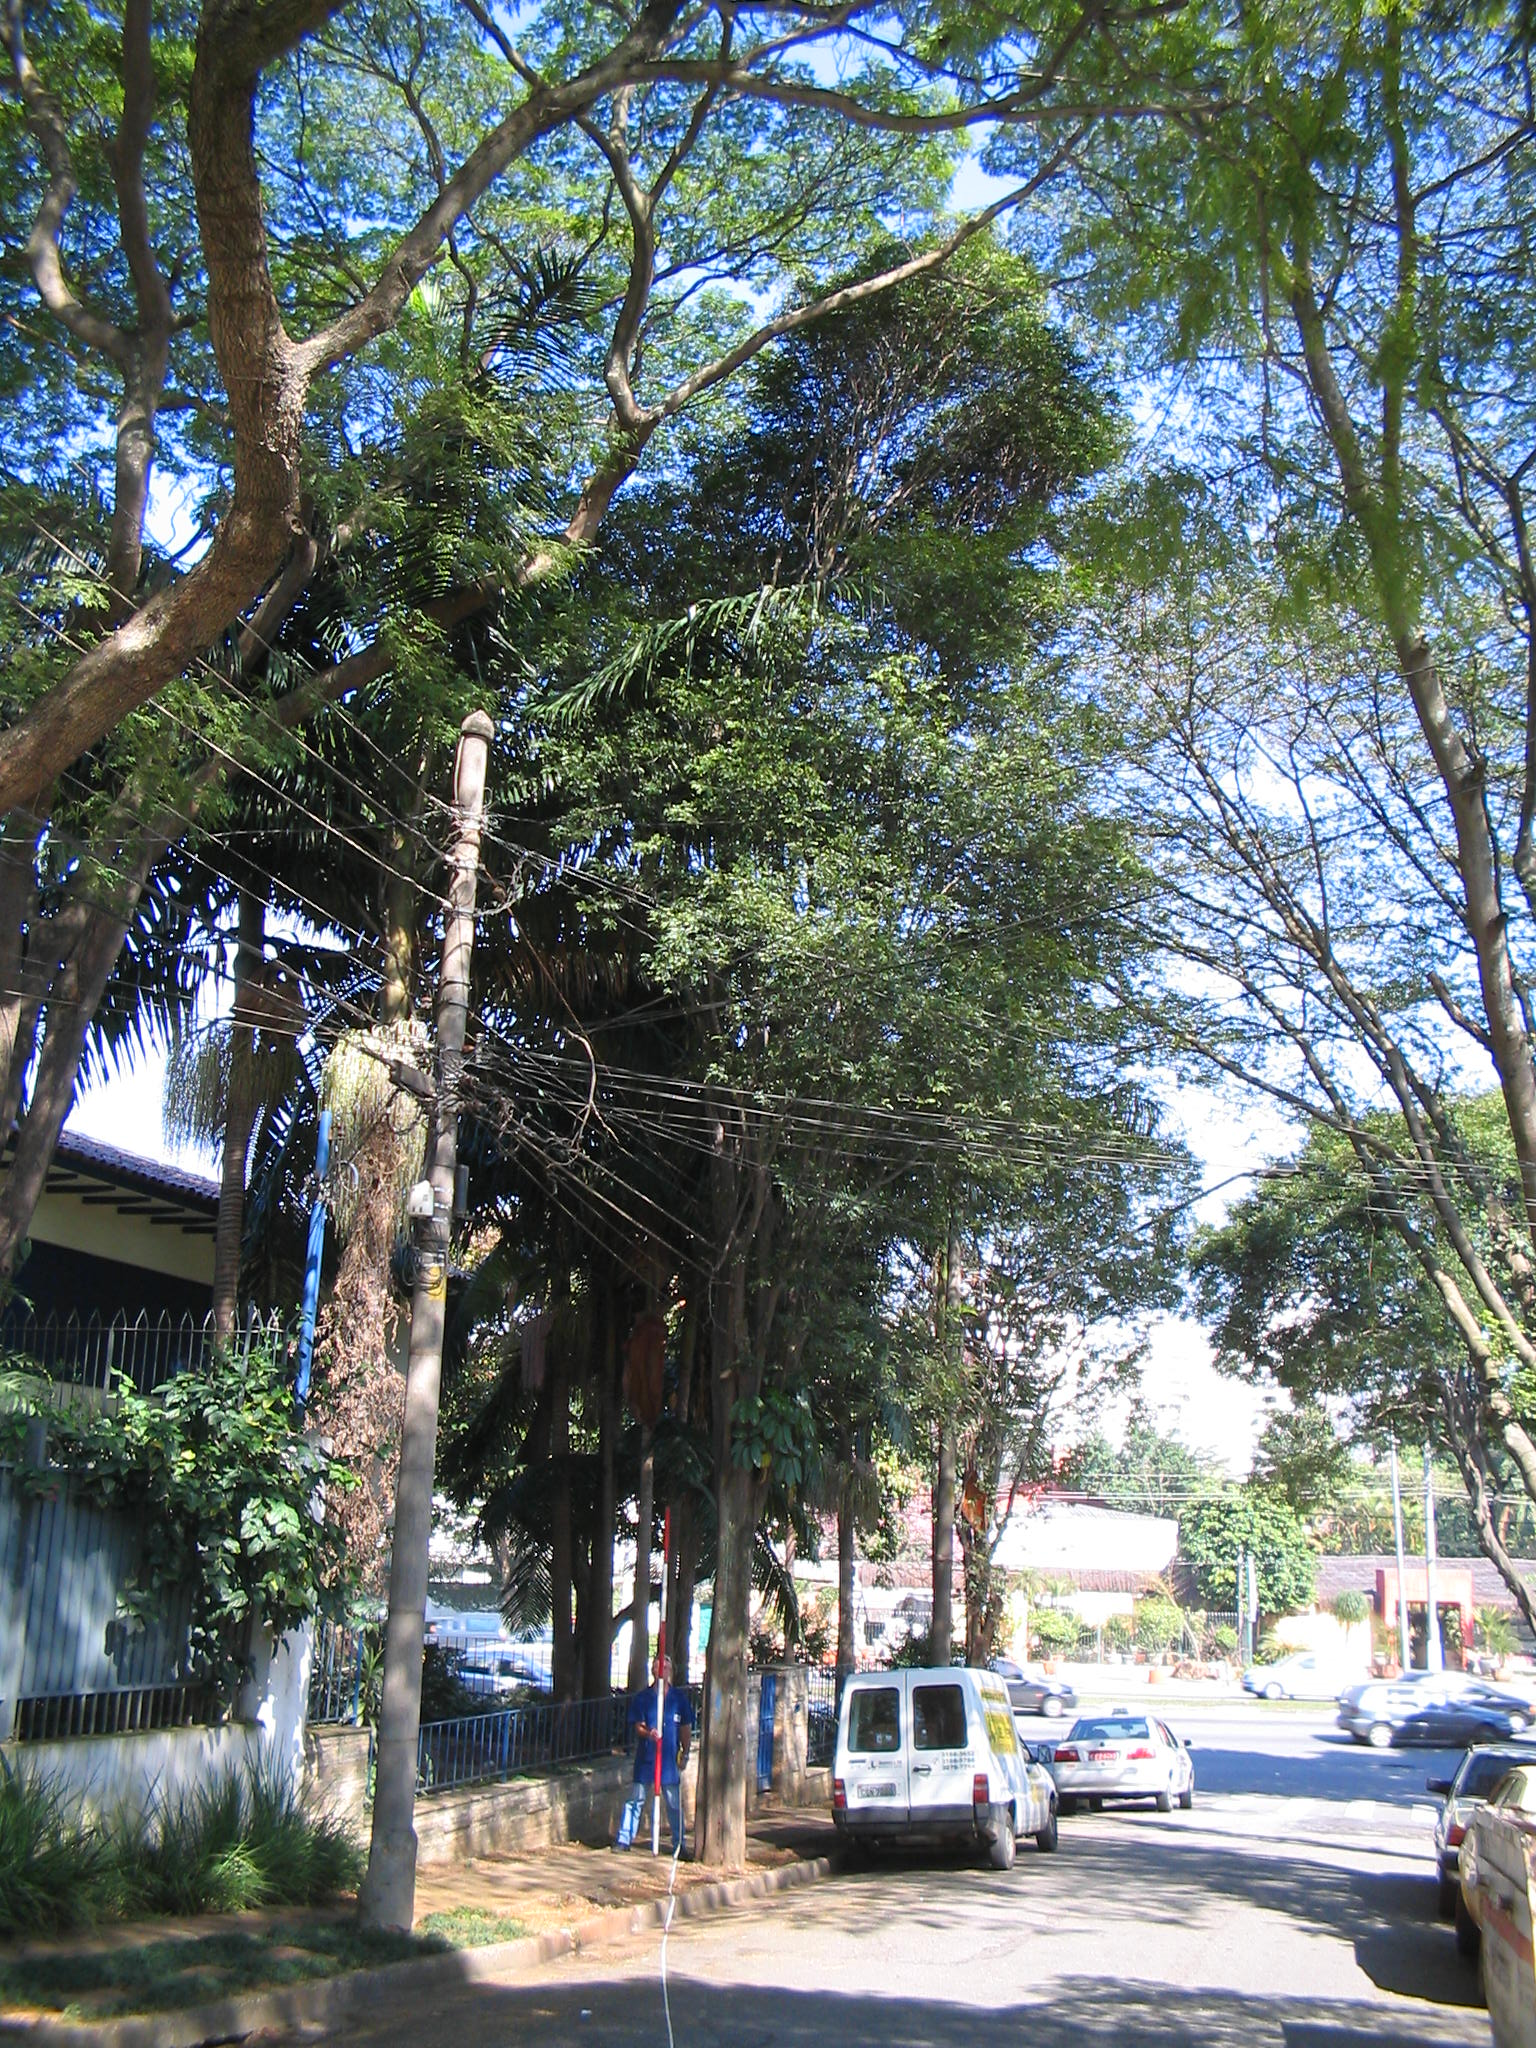stick: (636, 1503, 686, 1861)
